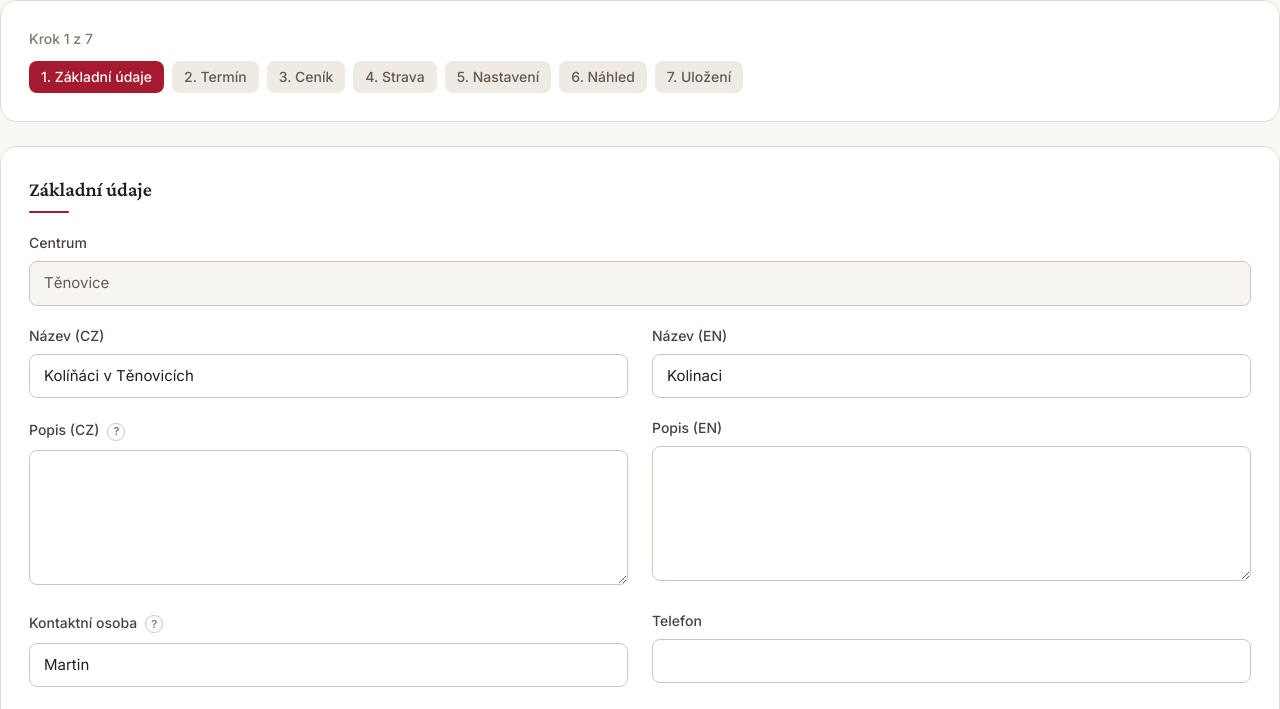
when the server refuses the save › words the unpublish_refused refusal instead of a generic failure
Click the button "7. Uložení".
click(699, 77)  # box [655, 61, 743, 93]
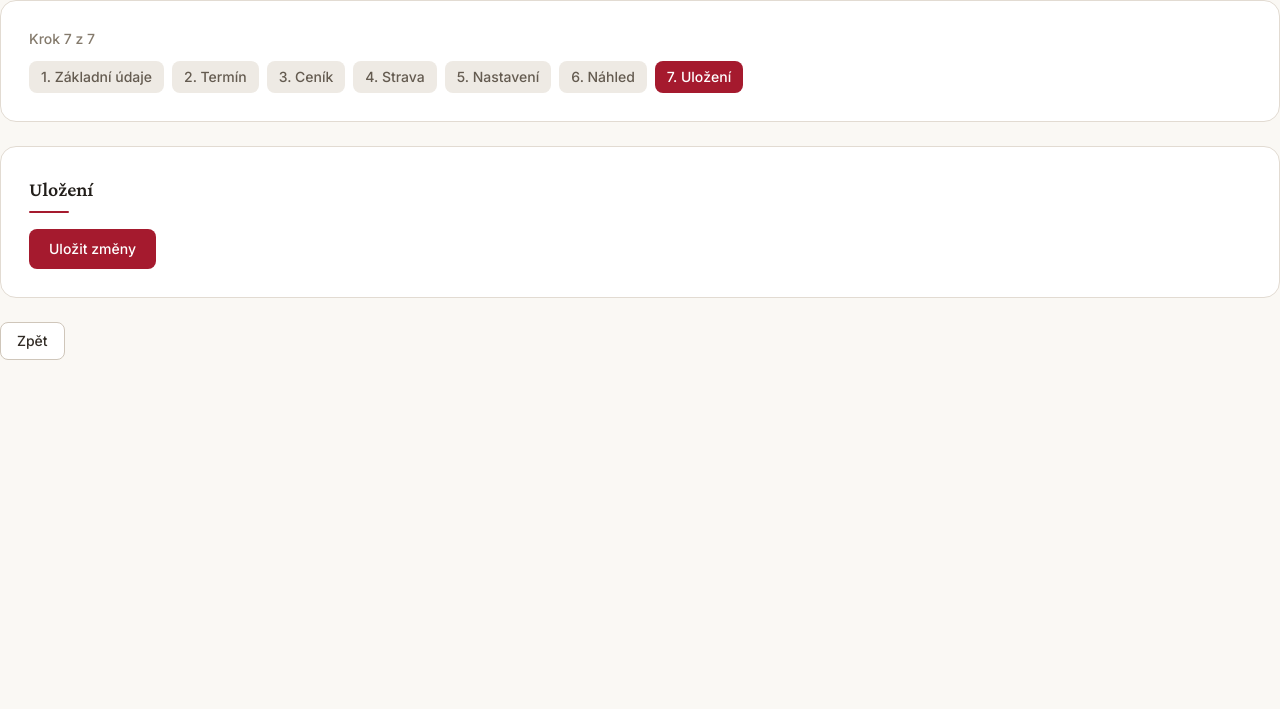
Click the button "Uložit změny".
click(92, 249)  # box [29, 229, 156, 269]
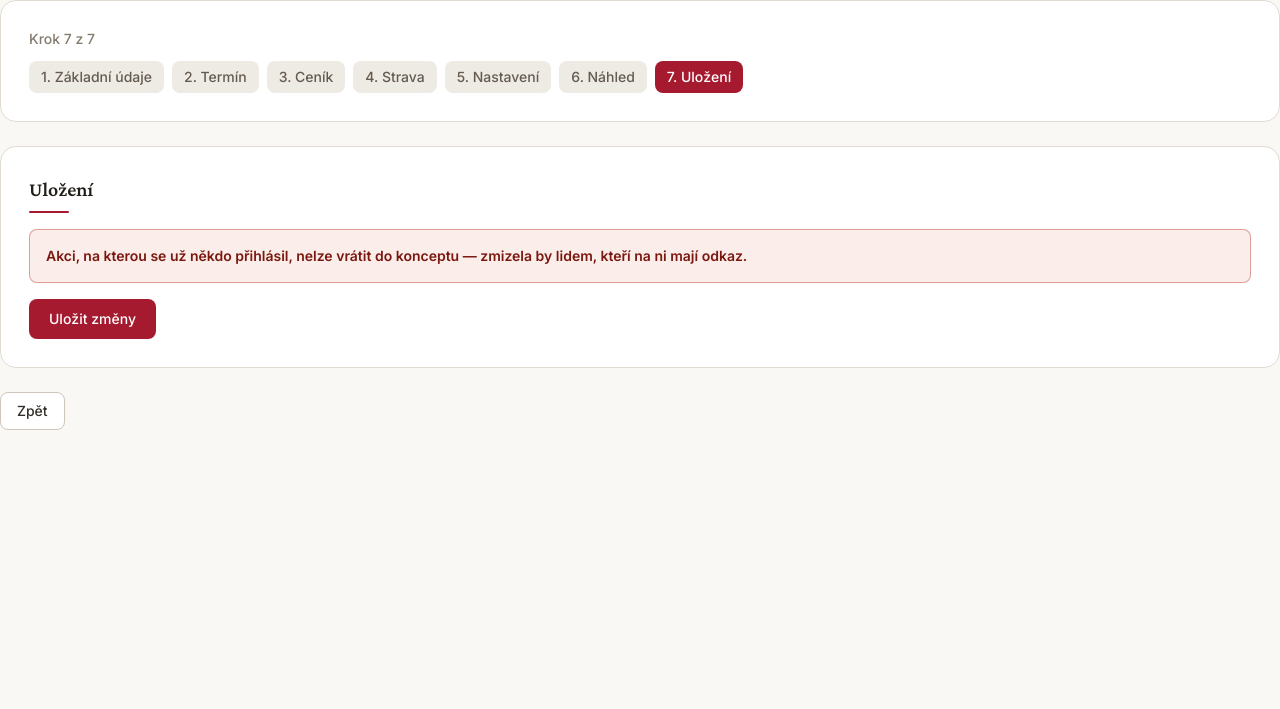
expect the text "Akci, na kterou se už někdo přihlásil, nelze vrátit do konceptu — zmizela by lidem, kteří na ni mají odkaz." is shown: met, box [46, 247, 747, 264]
